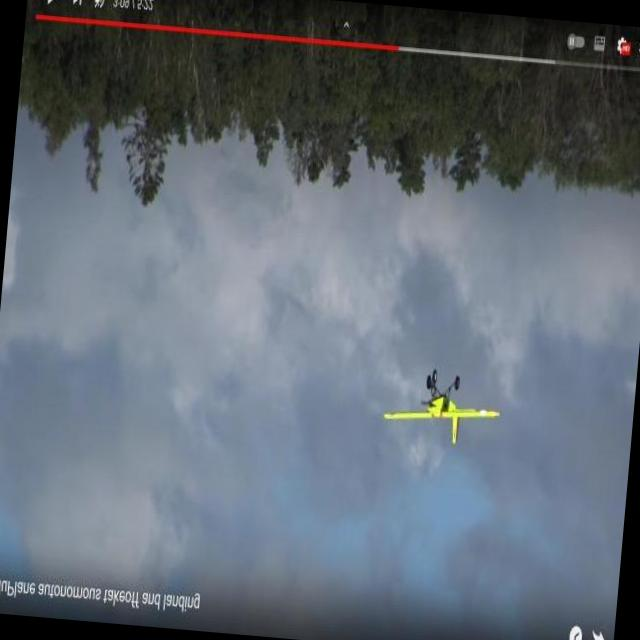UAV: (376, 359, 518, 458)
